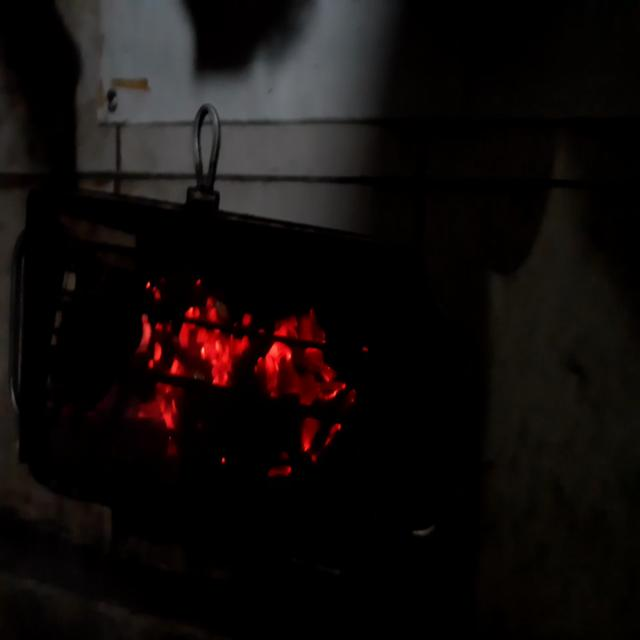Fire: (121, 272, 364, 489)
